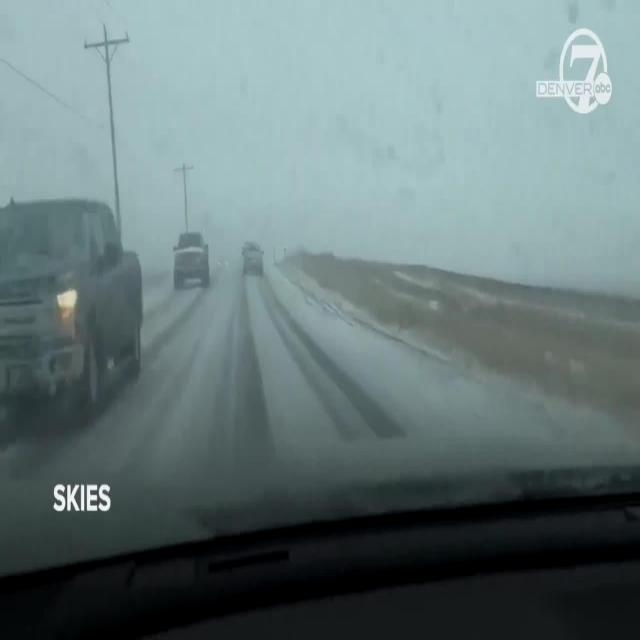Car: (241, 239, 264, 274)
Truck: (0, 199, 145, 406), (169, 232, 209, 288)
